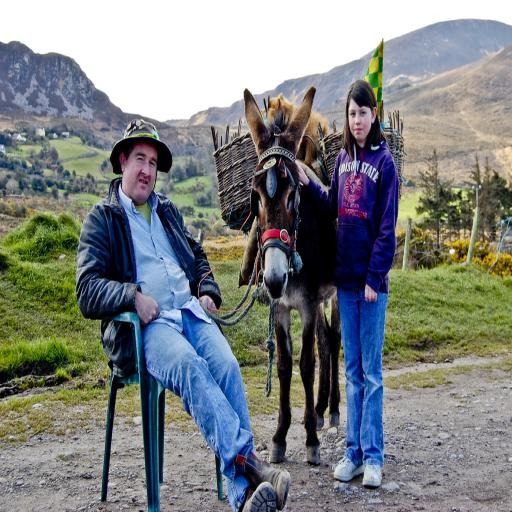Person: (66, 160, 300, 428), (318, 132, 428, 424)
no_boots: (244, 390, 294, 427), (357, 384, 389, 410), (327, 379, 359, 404)
no_gloves: (182, 270, 218, 298), (356, 267, 392, 295), (126, 275, 162, 303)
no_goggle: (128, 184, 167, 202), (338, 152, 376, 170)
no_helmet: (114, 163, 172, 196), (331, 130, 389, 163)
none: (81, 218, 209, 315), (334, 181, 396, 280)
